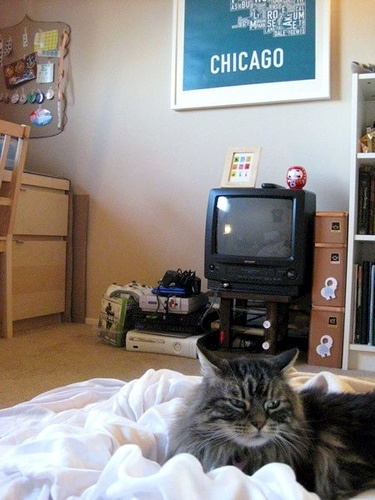chair: (1, 123, 31, 467)
